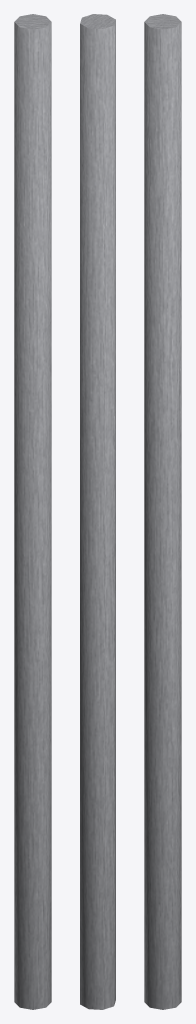
Rendered from fence-tall-chainlink-post-cbj_LOD01.gltf.
3 views of the same model, side by side, from view 1: azimuth 90°, elevation 25°; view 2: azimuth 150°, elevation 25°; view 3: azimuth 270°, elevation 25° (orthographic).
Visible parts, largest first — view 1: Cube01; view 2: Cube01; view 3: Cube01.
Part boxes in pixels (<box>): Cube01: <box>14,14,51,1009</box>; Cube01: <box>80,14,115,1009</box>; Cube01: <box>144,14,181,1009</box>.
Size of what is drawn, in the model's own units: 0.08 by 2.33 by 0.08.
